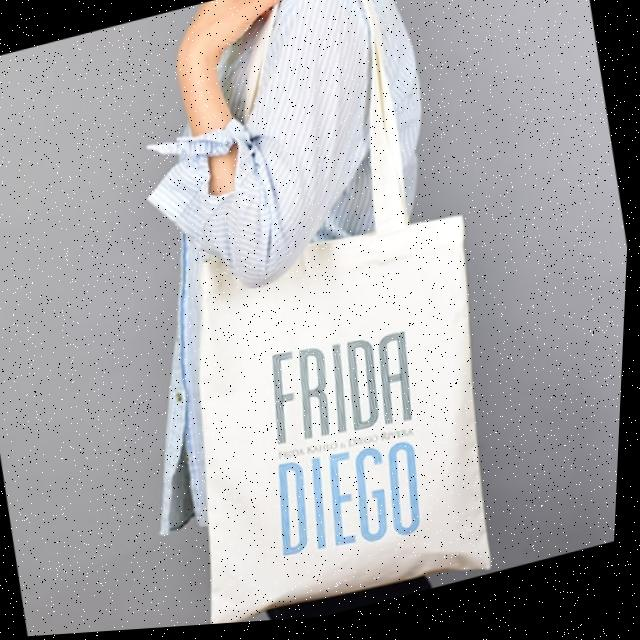ecobag: (71, 0, 563, 635)
